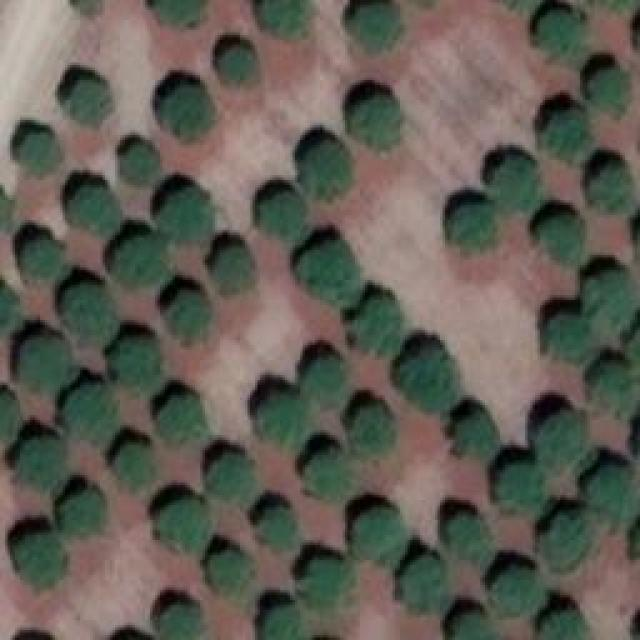Tree: (295, 238, 355, 301), (60, 283, 118, 346), (20, 333, 75, 396), (400, 345, 455, 408), (348, 290, 401, 353), (298, 450, 353, 510), (345, 503, 400, 563), (110, 230, 165, 283), (300, 140, 350, 198), (160, 188, 213, 241), (153, 498, 206, 551), (492, 152, 540, 210), (12, 530, 60, 588), (587, 457, 635, 515), (493, 565, 543, 620), (535, 110, 588, 160), (350, 95, 400, 148), (63, 385, 113, 438), (495, 460, 545, 513), (67, 185, 115, 240), (537, 410, 585, 465), (545, 308, 593, 363), (205, 243, 253, 296), (17, 433, 65, 486), (210, 450, 258, 503), (297, 553, 345, 606), (348, 0, 398, 50), (590, 257, 633, 315), (300, 353, 345, 408), (403, 553, 448, 608), (447, 200, 495, 250), (530, 212, 580, 260), (63, 77, 113, 125), (160, 83, 208, 133), (260, 393, 308, 443), (160, 393, 205, 446), (60, 488, 105, 541), (540, 10, 583, 63), (115, 335, 158, 388), (585, 165, 628, 215), (348, 403, 391, 453), (110, 438, 153, 488), (458, 408, 501, 458), (588, 360, 638, 403), (12, 238, 60, 281), (445, 510, 488, 558), (545, 515, 588, 563), (15, 128, 58, 173), (263, 188, 306, 233), (205, 548, 248, 591), (588, 65, 628, 108), (165, 293, 203, 333), (163, 602, 203, 640), (260, 602, 300, 640), (220, 48, 258, 88), (450, 605, 493, 640), (158, 0, 208, 30), (123, 140, 156, 185), (263, 505, 296, 550), (262, 0, 310, 28), (543, 612, 586, 640), (0, 390, 18, 440), (0, 285, 15, 338), (0, 190, 15, 238), (70, 0, 107, 19)
